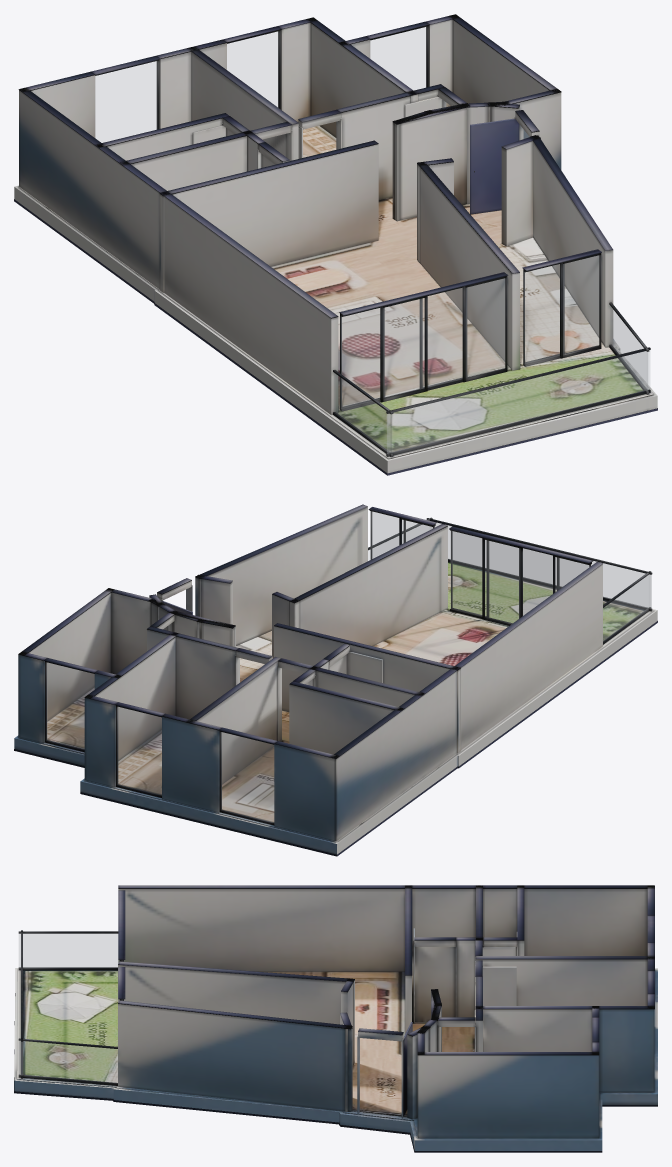
3 renders of one model, top to bottom at view 1: azimuth 30°, elevation 25°; view 2: azimuth 150°, elevation 25°; view 3: azimuth 270°, elevation 25°, orthographic. The views are drawn at different scales.
Visible parts, largest first — view 1: plan, glass3_m, railg1_m, glass4_m, glass0_m, glass1_m, glass2_m, railg2_m, railg0_m; view 2: plan, glass3_m, railg1_m, glass0_m, glass1_m, glass2_m, railg2_m, glass4_m; view 3: plan, railg0_m, railg2_m.
Part boxes in pixels (x1,y1,x2,y2): plan: [14, 14, 657, 475]; glass3_m: [341, 278, 504, 408]; railg1_m: [387, 350, 649, 453]; glass4_m: [524, 255, 598, 363]; glass0_m: [95, 61, 157, 142]; glass1_m: [227, 31, 278, 107]; glass2_m: [370, 27, 426, 90]; railg2_m: [334, 373, 391, 453]; railg0_m: [610, 306, 647, 390]; plan: [14, 504, 657, 856]; glass3_m: [450, 531, 591, 623]; railg1_m: [430, 523, 651, 608]; glass0_m: [221, 732, 273, 822]; glass1_m: [117, 707, 161, 795]; glass2_m: [46, 663, 94, 749]; railg2_m: [603, 575, 649, 641]; glass4_m: [370, 511, 432, 559]; plan: [14, 885, 657, 1152]; railg0_m: [19, 1041, 117, 1082]; railg2_m: [19, 934, 117, 967].
Bounding box in the file's own units: 10.03 × 2.62 × 15.84.
Materials: 2 (1 with a texture image).
